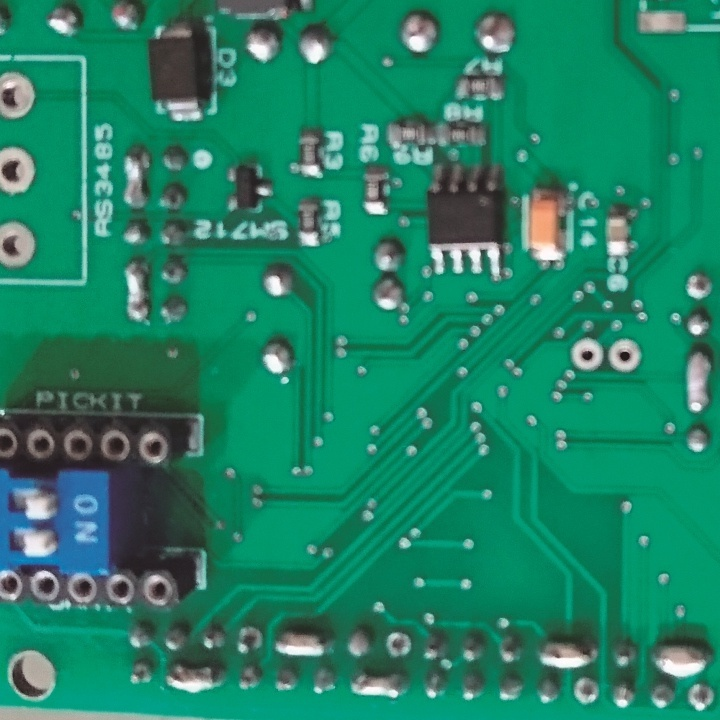F: (1, 70, 40, 120), (1, 220, 40, 269), (1, 148, 39, 195), (607, 340, 641, 373), (687, 680, 716, 715), (571, 338, 601, 371), (235, 624, 263, 655), (684, 272, 712, 302), (570, 677, 600, 705), (385, 630, 413, 659)
P: (650, 643, 713, 676), (537, 638, 599, 671), (682, 345, 710, 415), (165, 660, 222, 693), (121, 258, 150, 322), (273, 629, 333, 659), (121, 143, 147, 210), (350, 672, 408, 701)
